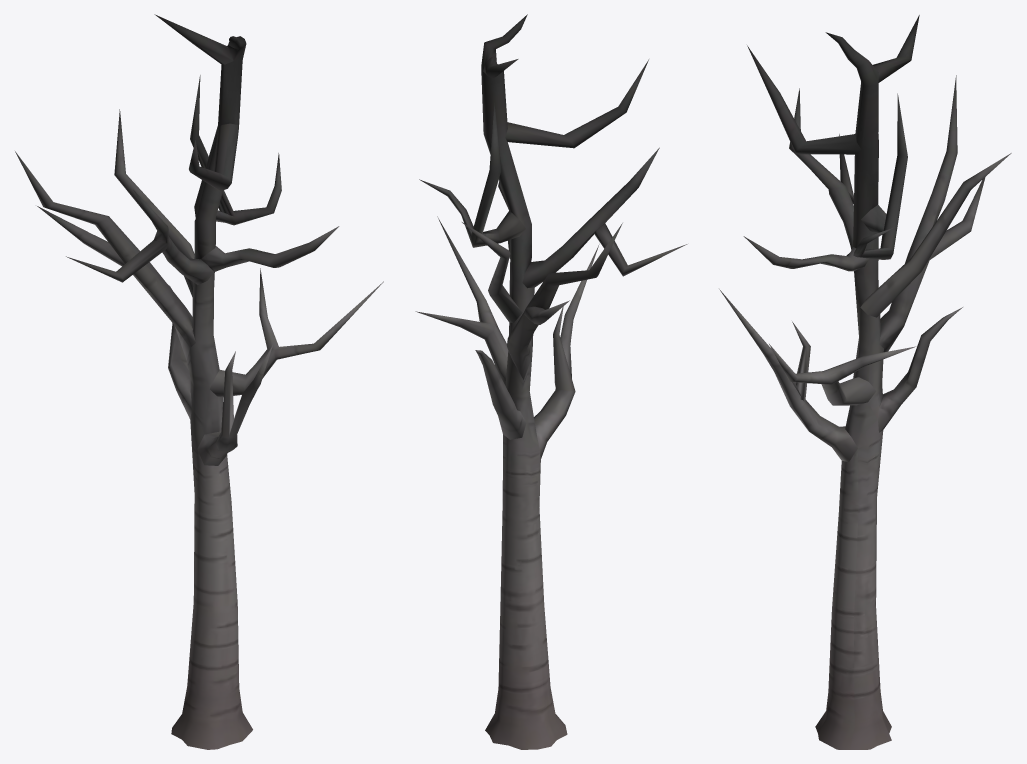
3 renders of one model, left to right at view 1: azimuth 30°, elevation 25°; view 2: azimuth 150°, elevation 25°; view 3: azimuth 270°, elevation 25°, orthographic.
Visible parts, largest first — view 1: body0_model0_lod0_mesh0; view 2: body0_model0_lod0_mesh0; view 3: body0_model0_lod0_mesh0.
Part boxes in pixels (x1,y1,x2,y2): body0_model0_lod0_mesh0: [15, 14, 383, 749]; body0_model0_lod0_mesh0: [415, 14, 687, 749]; body0_model0_lod0_mesh0: [719, 15, 1011, 749].
Bounding box in the file's own units: 95.17 × 223 × 84.05.
1 material, 1 textured.
